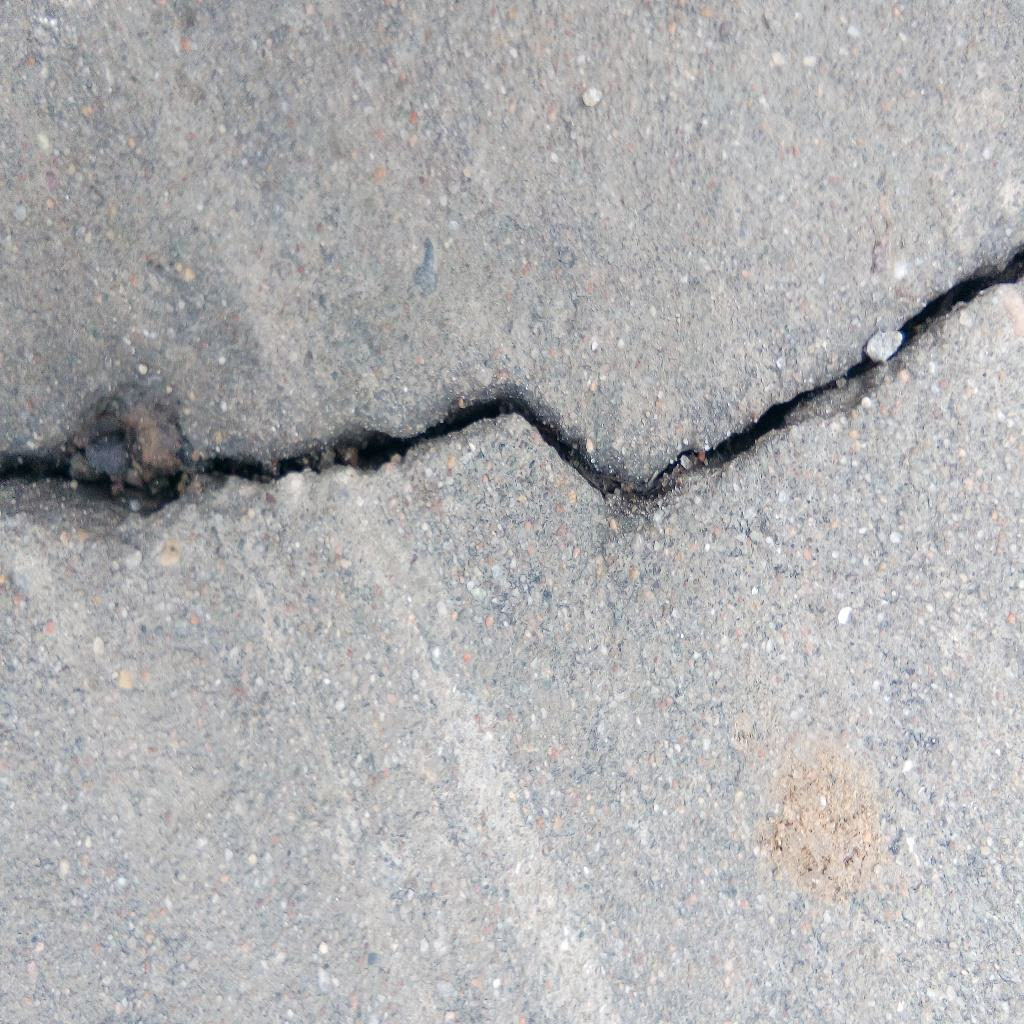Crack: (1, 239, 1024, 516)
